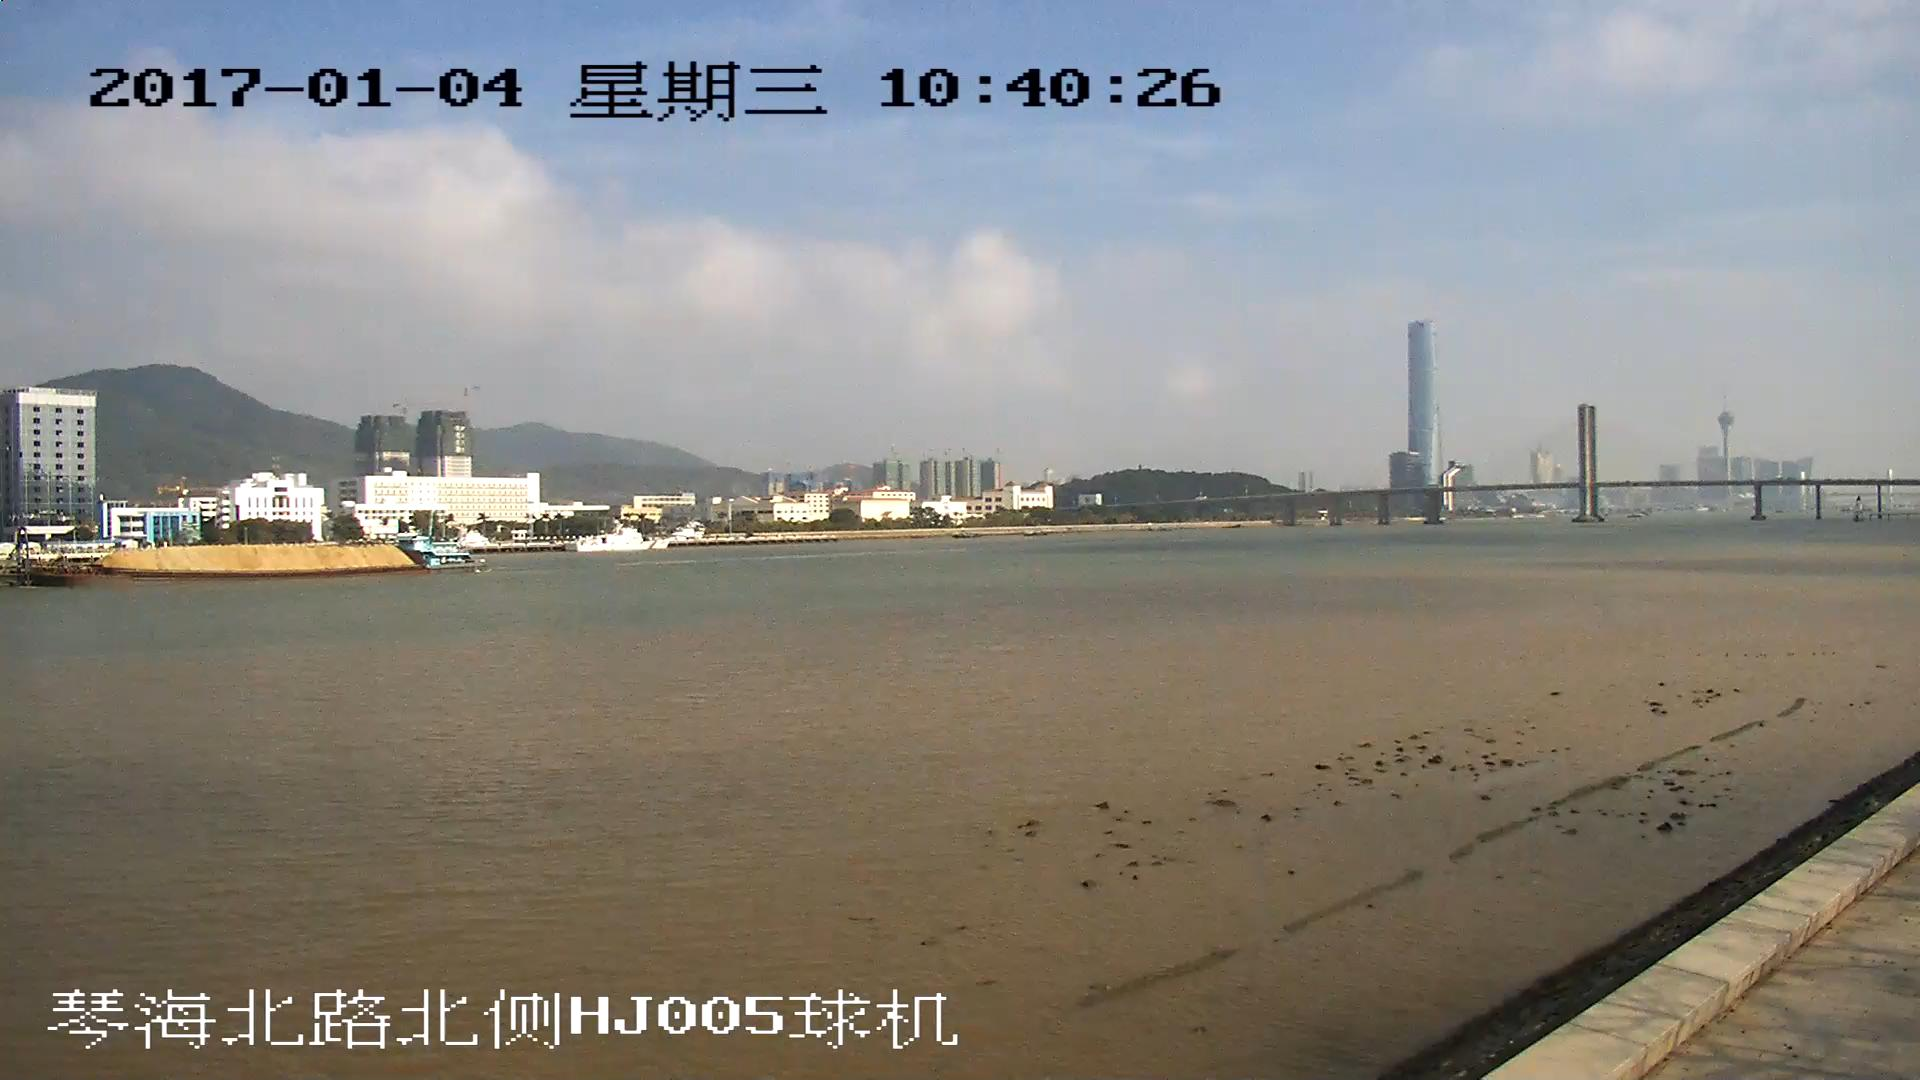ore carrier: (1, 540, 477, 585)
